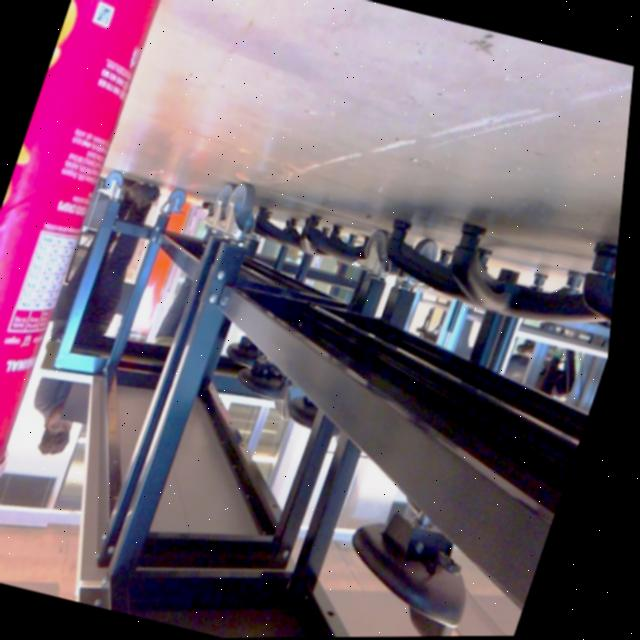redpringles: (0, 0, 187, 505)
